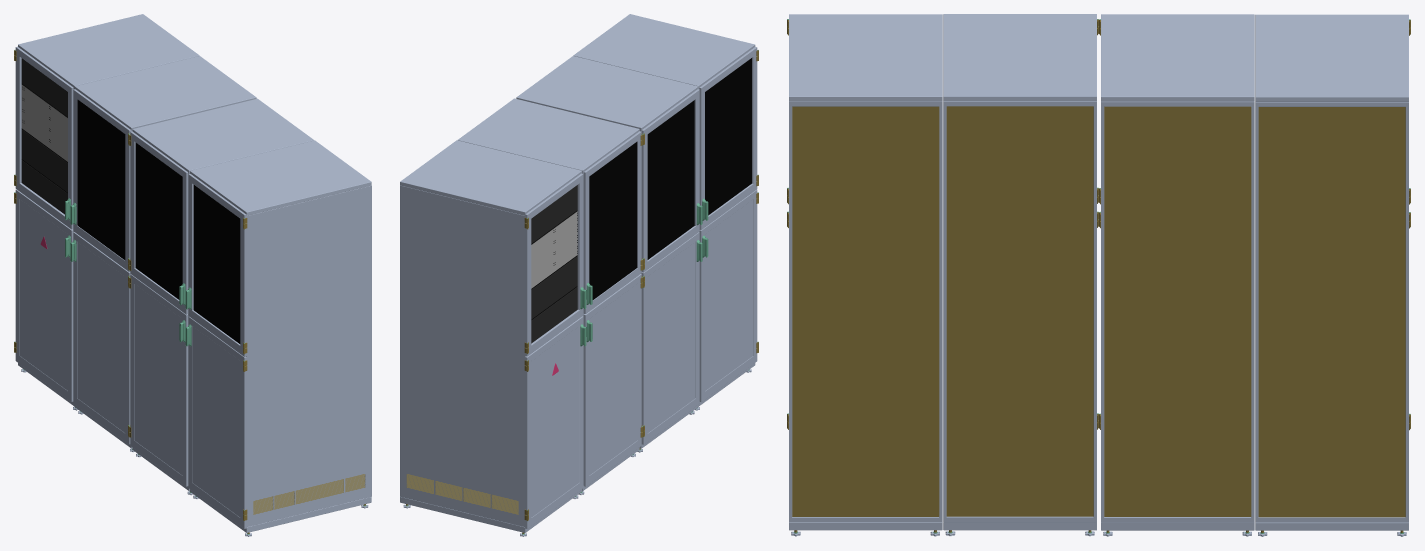
File: transmitter-cabinets.fbx
3 renders of one model, left to right at view 1: azimuth 30°, elevation 25°; view 2: azimuth 150°, elevation 25°; view 3: azimuth 270°, elevation 25°, orthographic. The views are drawn at different scales.
Visible parts, largest first — view 1: $$$DUMMY.Group01; view 2: $$$DUMMY.Group01; view 3: $$$DUMMY.Group01.
Part boxes in pixels (x1,y1,x2,y2): $$$DUMMY.Group01: (14,14,371,536); $$$DUMMY.Group01: (400,14,758,536); $$$DUMMY.Group01: (787,14,1410,536).
Size of the model in its own units: 14.49 by 34.1 by 43.74.
